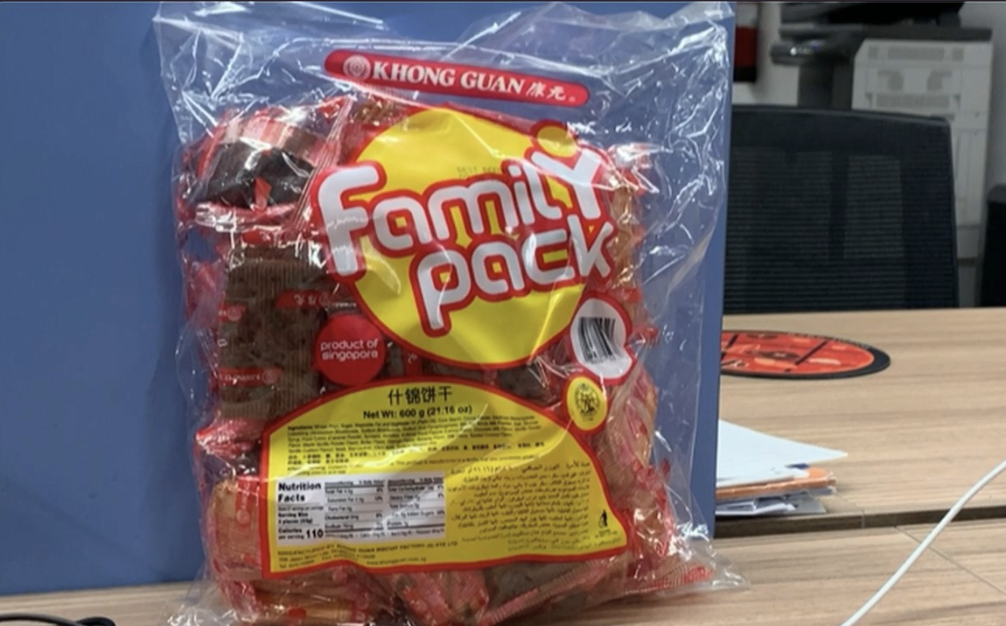cookies_600g-699g: (229, 58, 658, 565)
